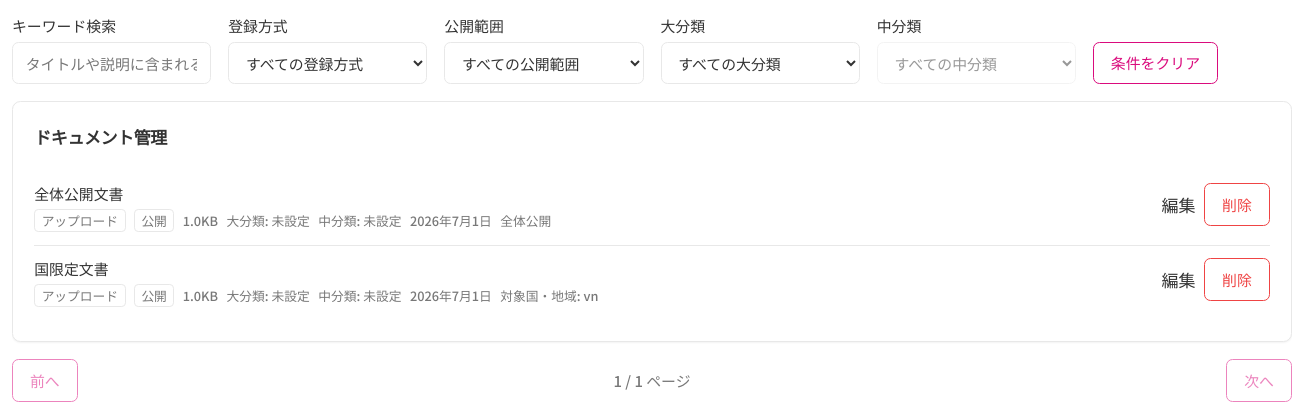
Test: DocumentManagementListClient › 公開範囲種別で絞り込む
Select "国単位" in the dropdown labelled "公開範囲" at {"x": 544, "y": 63}, box [444,42,644,84]
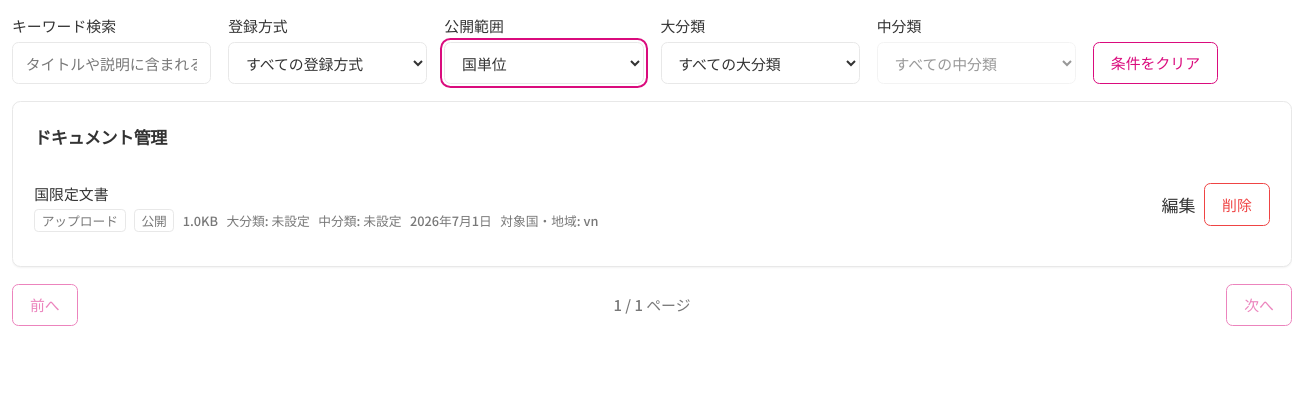
expect the text "国限定文書" is shown: met, box [34,183,109,204]
expect the text "全体公開文書" is gone: met
